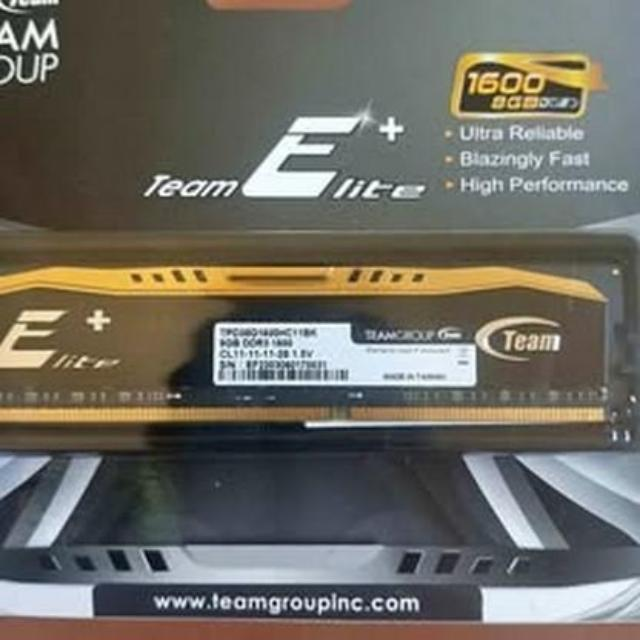RAM: (0, 244, 617, 442)
